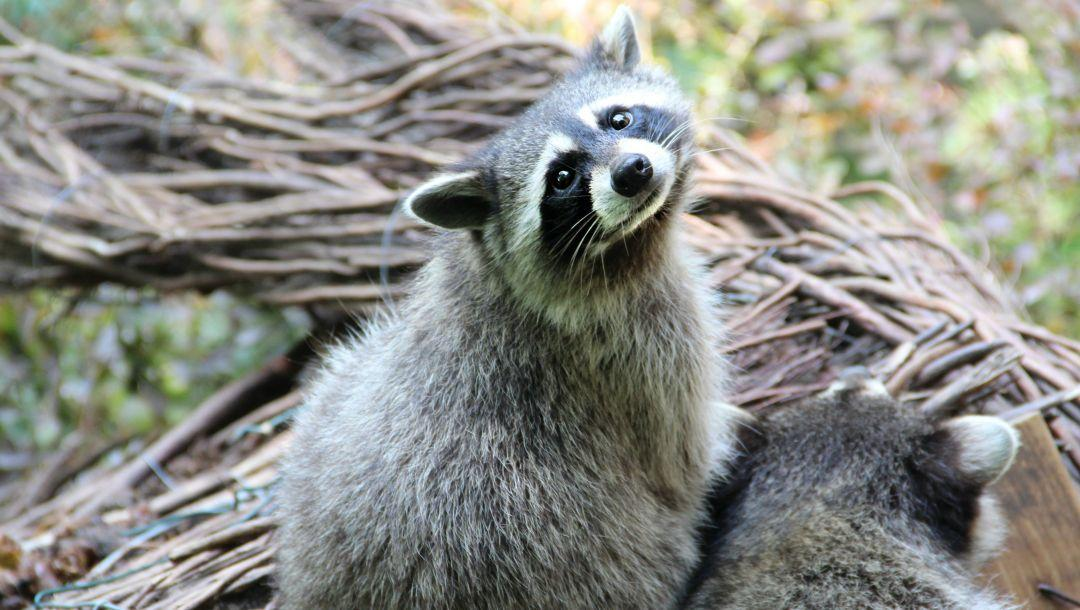raccoon: (274, 6, 749, 610)
